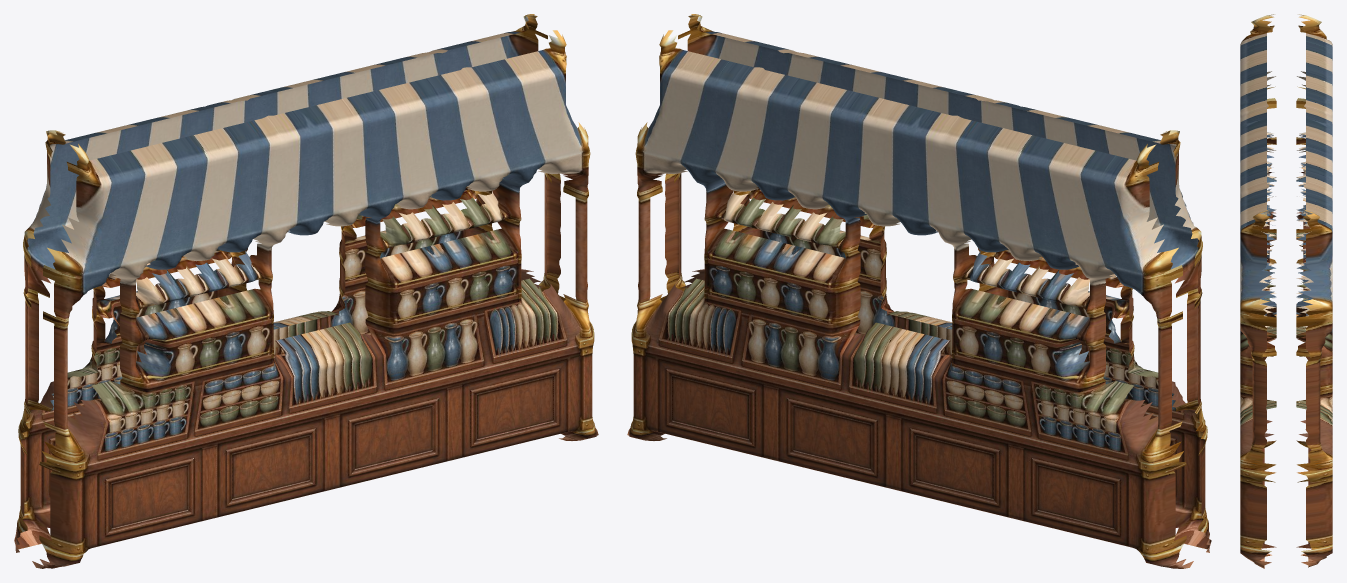
File: v4-market-square-scatter-pottery-stall.glb
3 views of the same model, side by side, from view 1: azimuth 30°, elevation 25°; view 2: azimuth 150°, elevation 25°; view 3: azimuth 270°, elevation 25° (orthographic). The views are drawn at different scales.
Visible parts, largest first — view 1: v4-market-square-scatter-pottery-stall; view 2: v4-market-square-scatter-pottery-stall; view 3: v4-market-square-scatter-pottery-stall.
Part boxes in pixels (x1,y1,x2,y2): v4-market-square-scatter-pottery-stall: (14, 14, 598, 568); v4-market-square-scatter-pottery-stall: (627, 14, 1211, 568); v4-market-square-scatter-pottery-stall: (1240, 14, 1332, 568).
Bounding box in the file's own units: 1.39 × 0.9813 × 0.24.
1 material, 1 textured.
